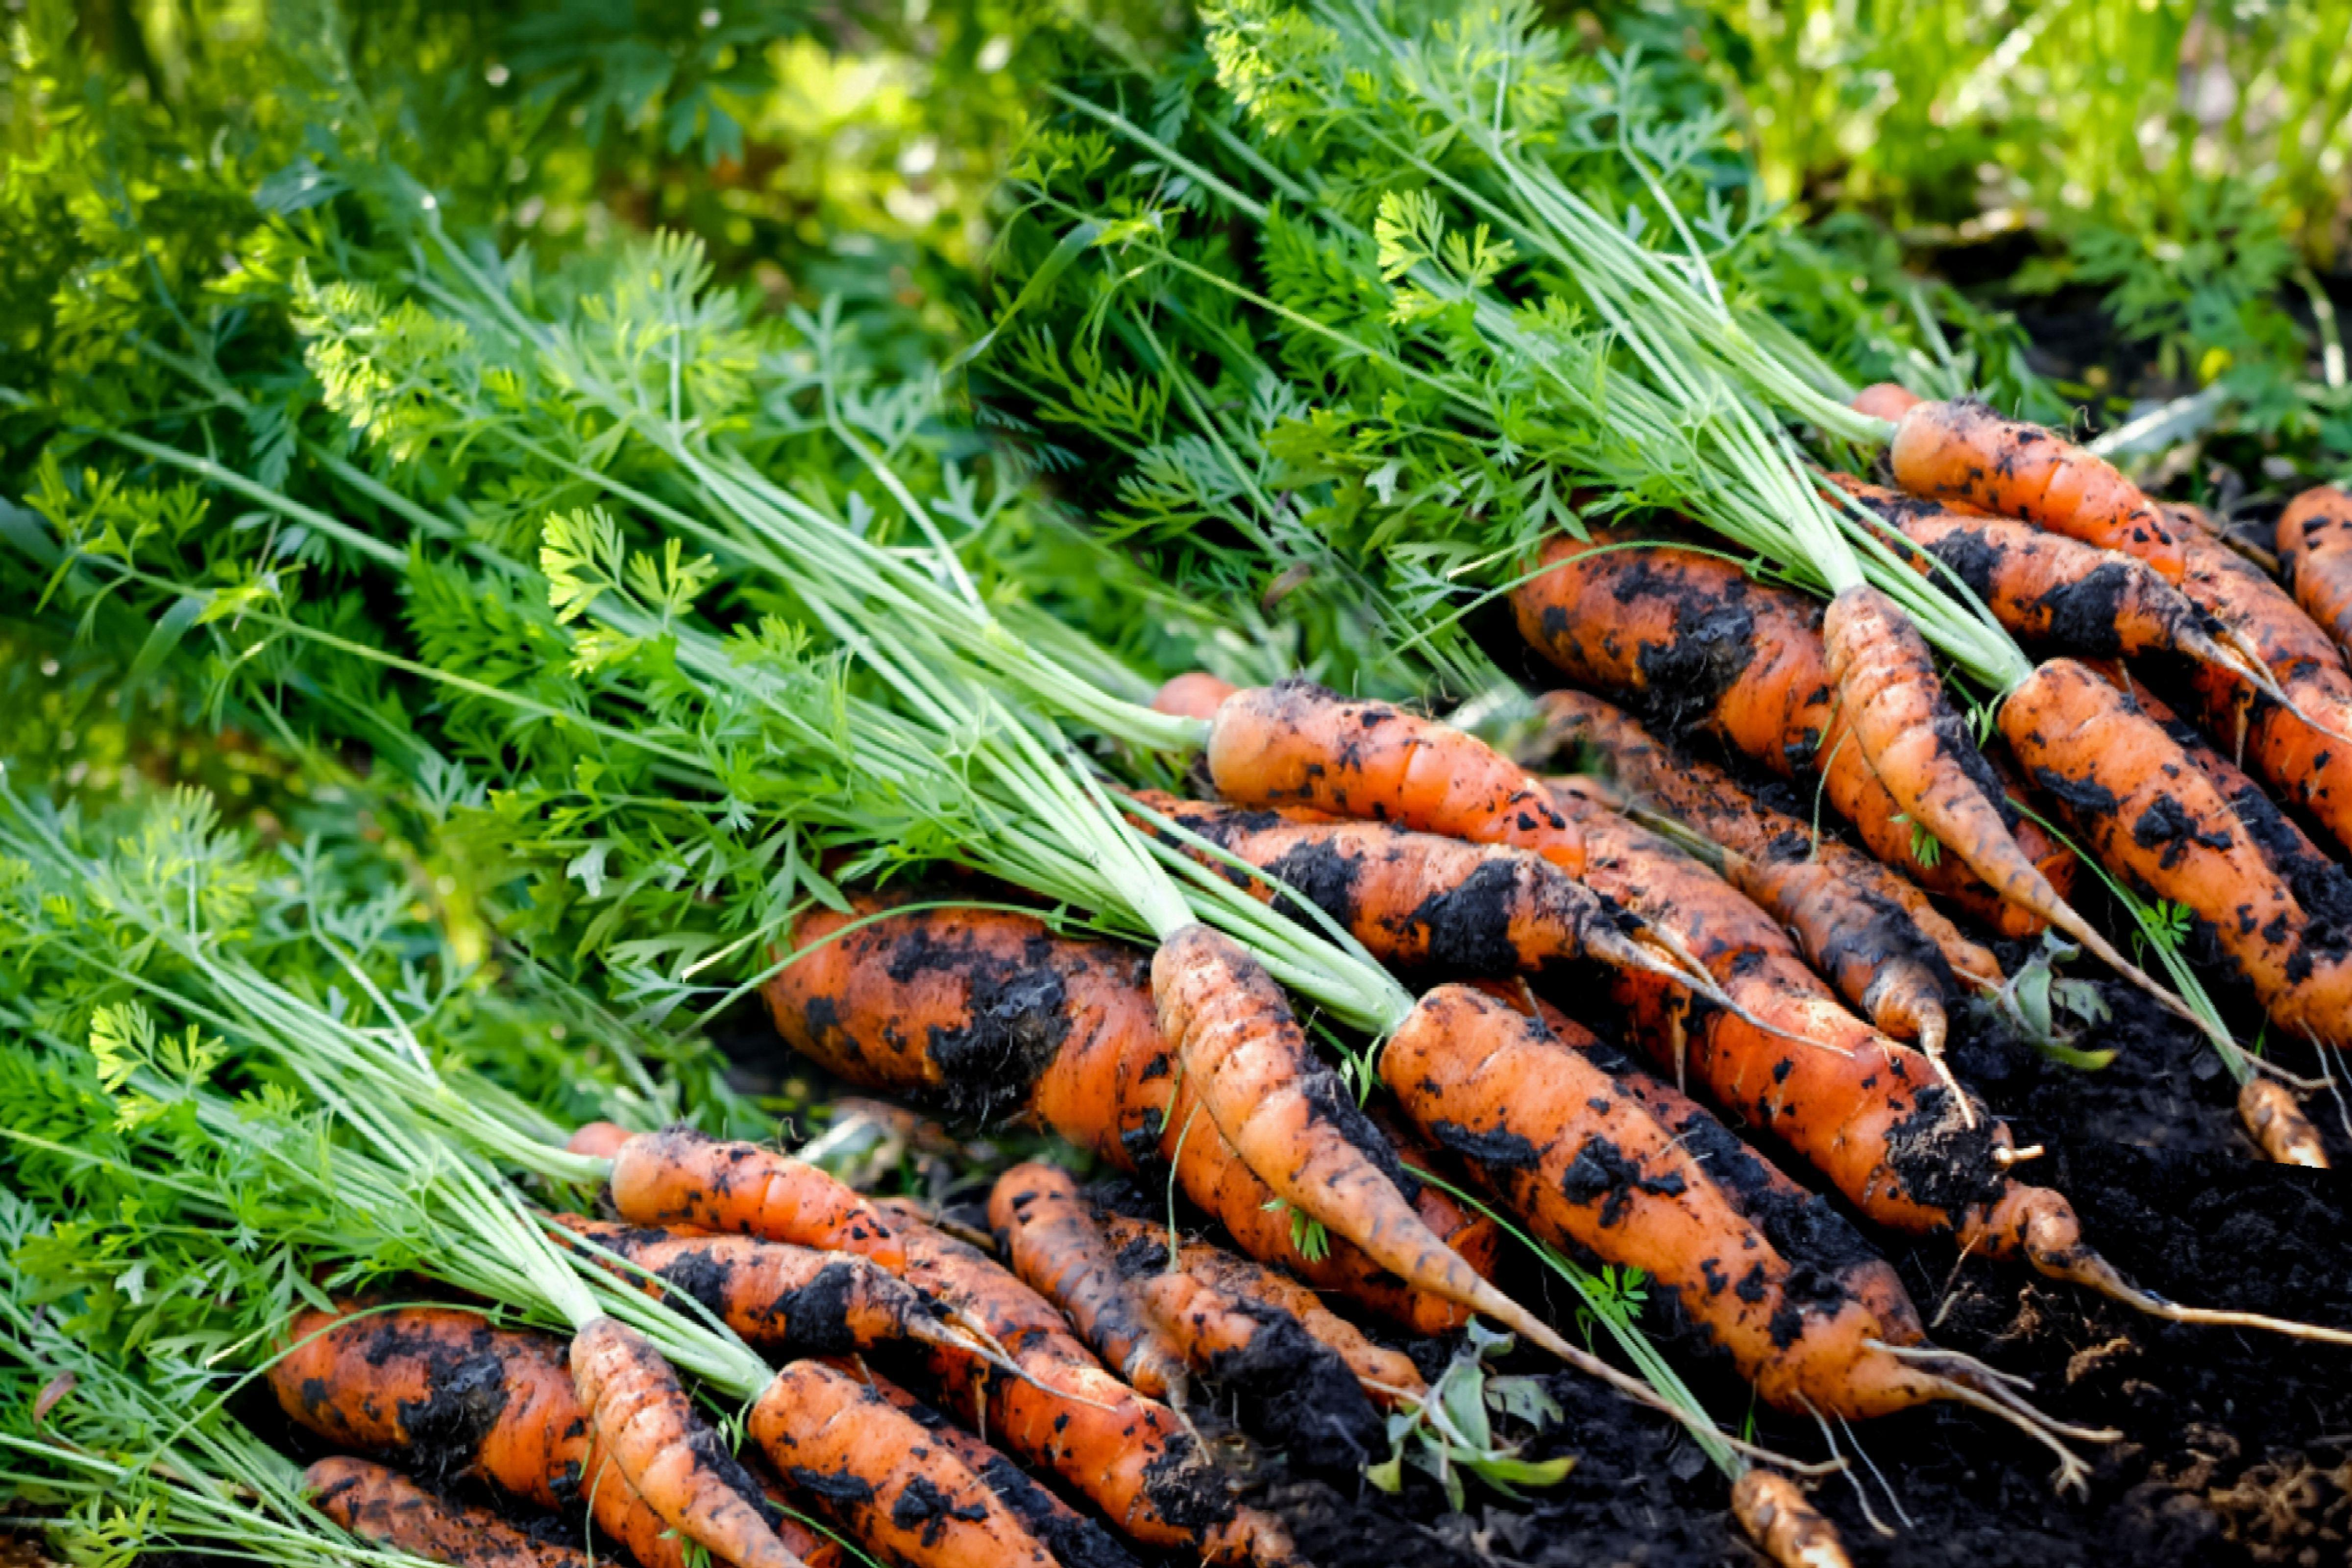carrot: (775, 472, 2352, 1568), (40, 805, 1776, 1568)
